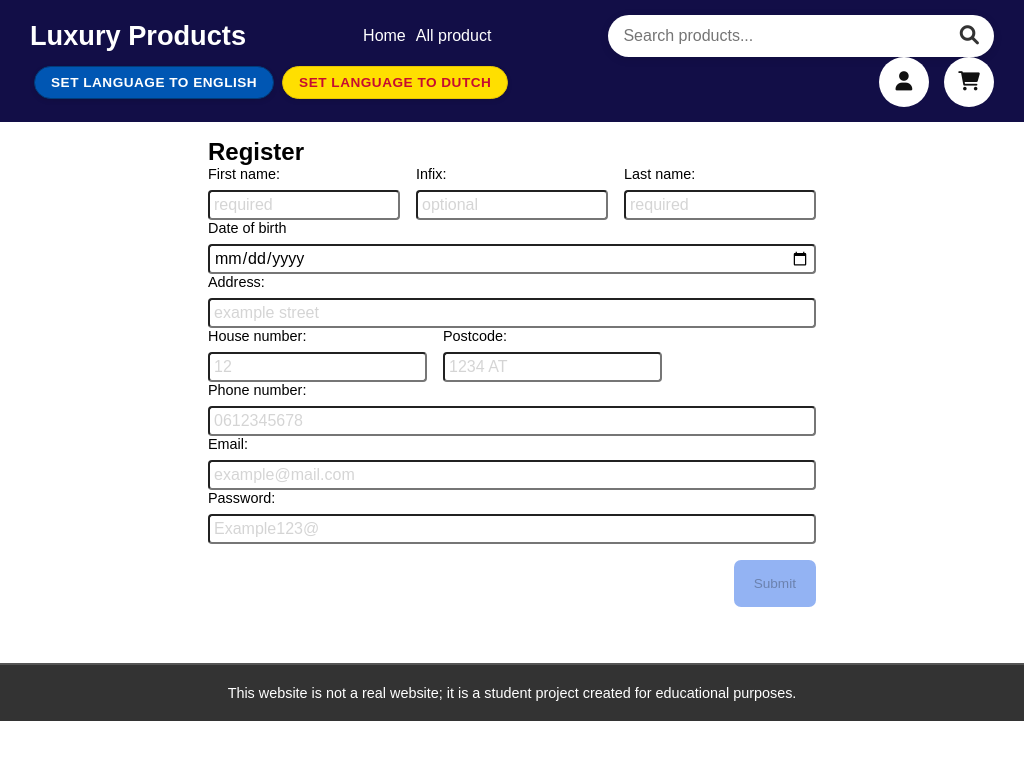
Test: Registration Flow Tests › shows validation errors for empty required fields
Step 1. Submit the form, box [208,166,816,607]
Step 2. Type "J" into the field with id "firstName" → [304, 205], box [208,190,400,220]
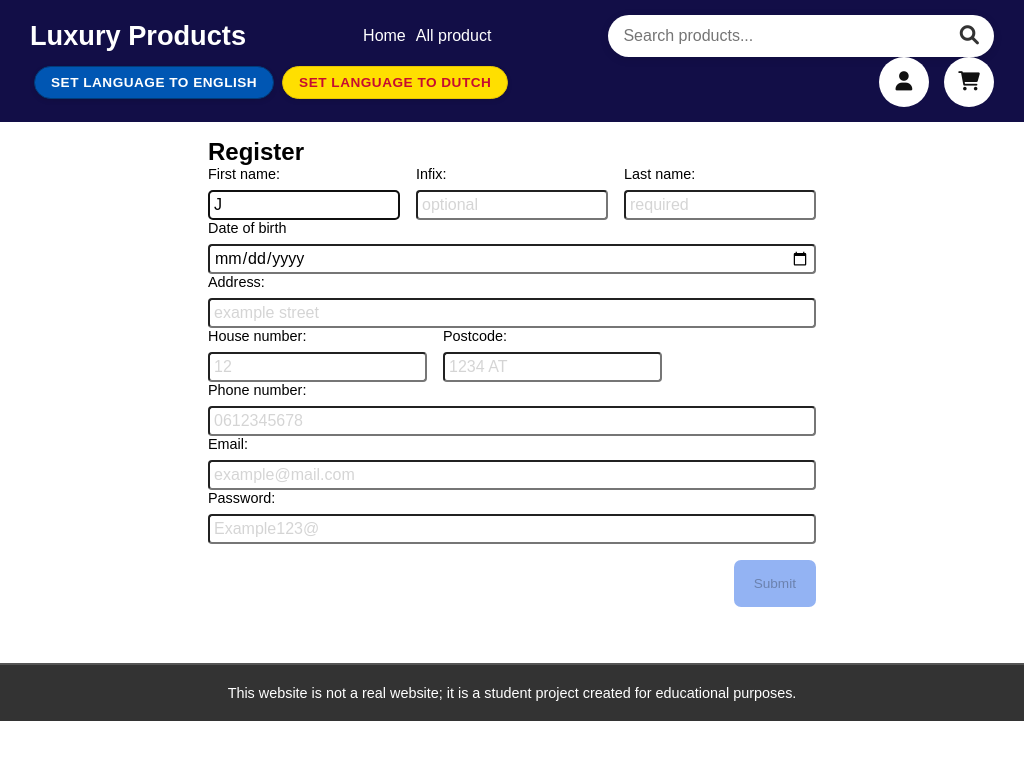
Step 3. Type "DD" into the field with id "lastName" → [720, 205], box [624,190,816,220]
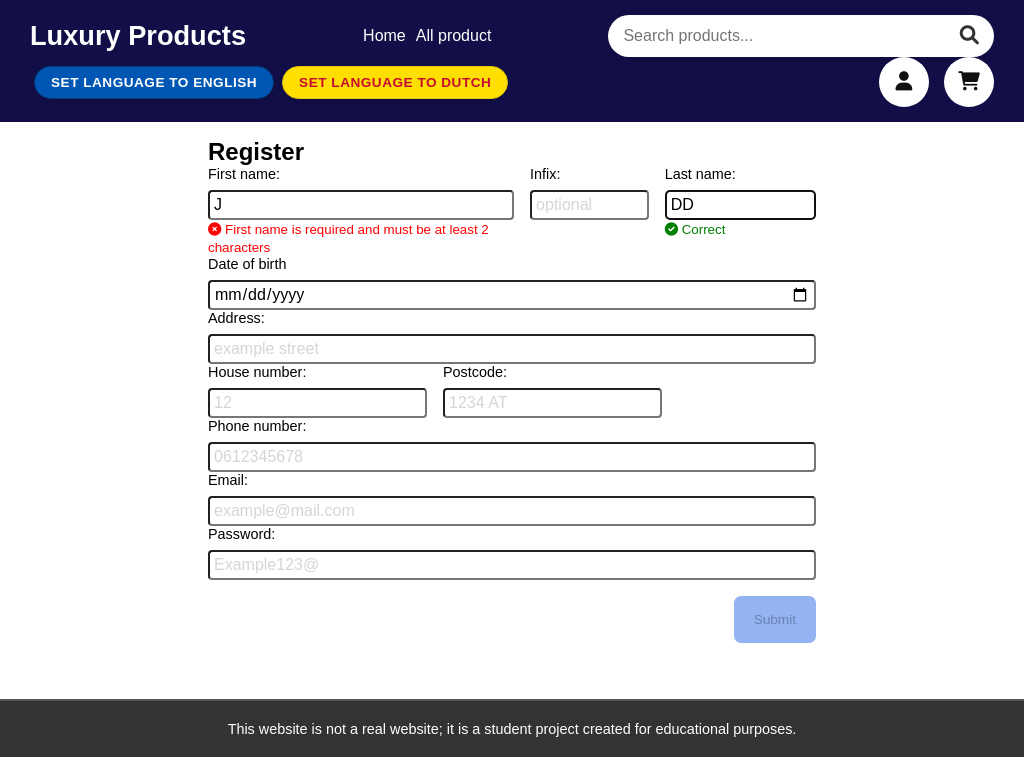
Result: the element with class "wrong-message" is shown at [208,222,489,255]
